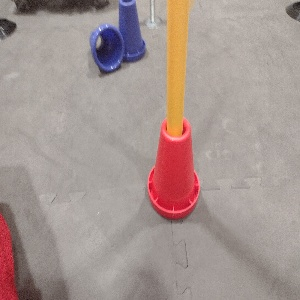Blue_1: (84, 25, 125, 74), (113, 0, 147, 59)
Red_1: (143, 116, 203, 222)
